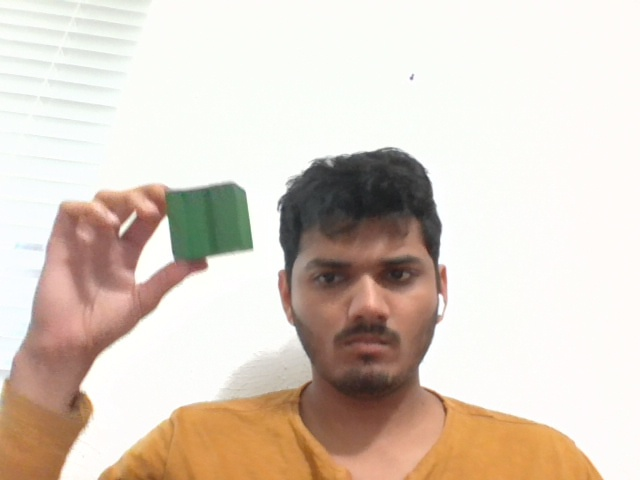GreenBlock: (164, 183, 255, 257)
